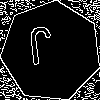J: (26, 26, 56, 75)
